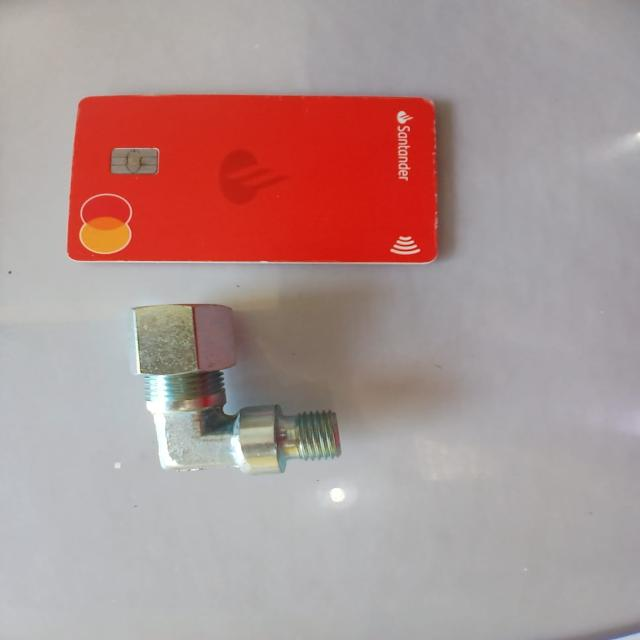cartao: (69, 95, 438, 262)
rosca_externa: (135, 304, 343, 474)
